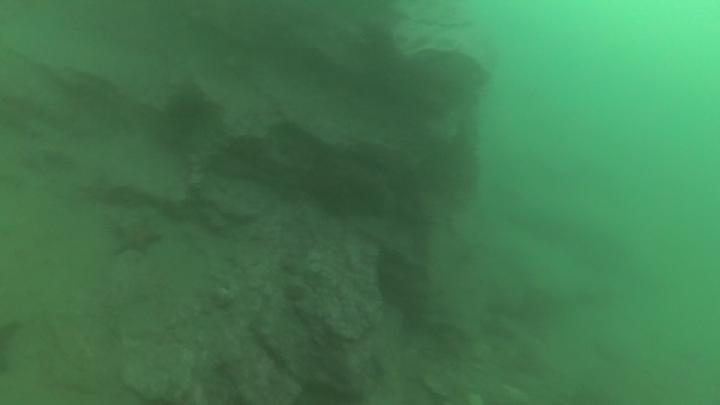echinus: (160, 88, 210, 138)
starfish: (109, 213, 167, 261)
